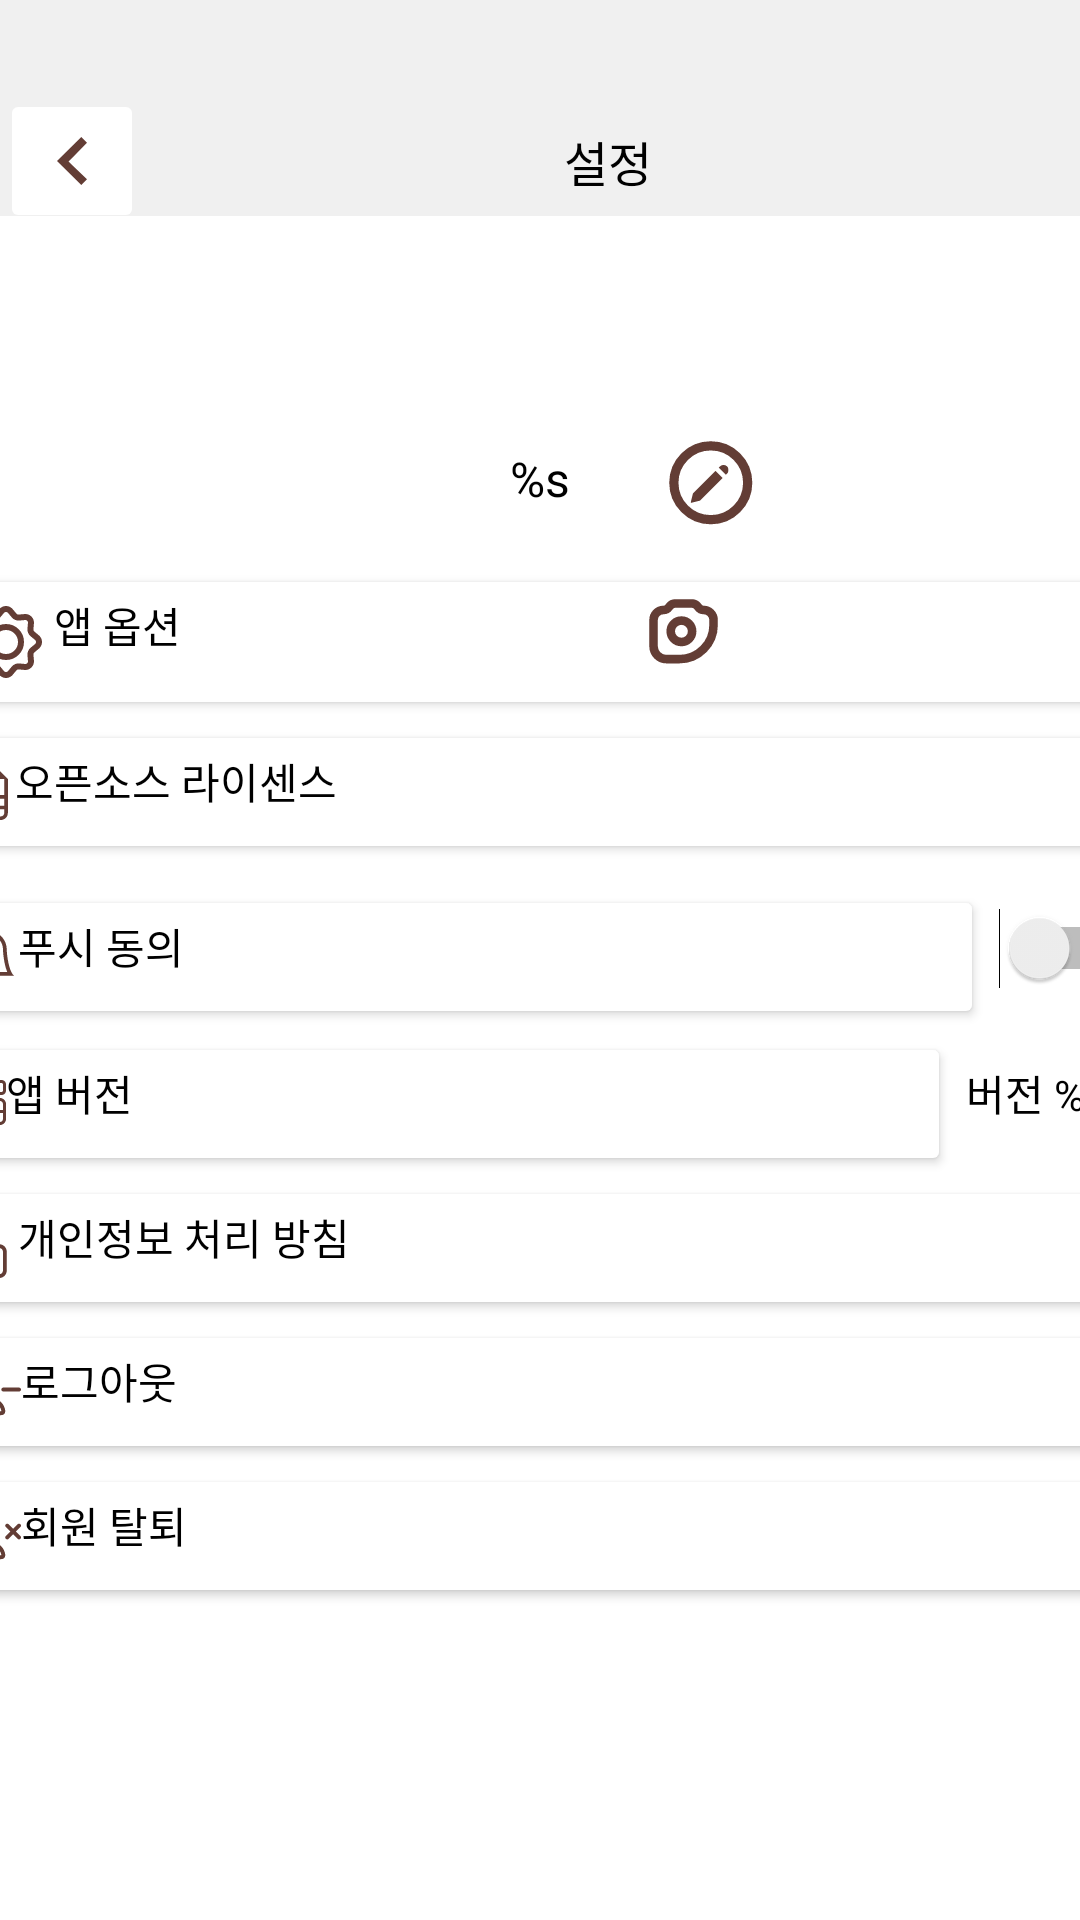

Icon bounding boxes for this 1080w x 1920h phone screenshot, format (x1, y1, x2, y2):
back: (0, 107, 144, 233)
photo: (649, 599, 718, 664)
rename: (669, 441, 753, 525)
